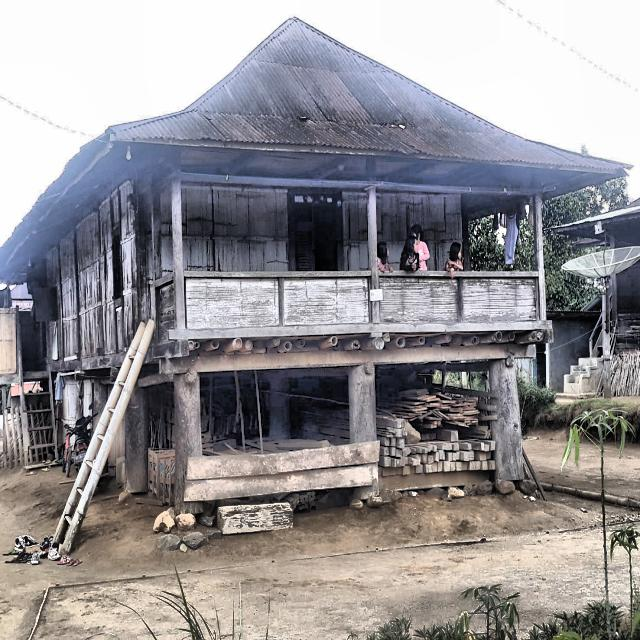column: (173, 371, 204, 514), (489, 357, 523, 480), (124, 387, 149, 493), (348, 363, 377, 443)
door: (288, 192, 342, 270)
ornamen: (184, 277, 280, 329), (284, 278, 369, 325), (379, 276, 459, 323), (463, 277, 537, 323), (159, 282, 175, 345)
roof: (0, 18, 629, 283), (550, 199, 640, 236)
stair: (54, 320, 154, 553), (19, 349, 58, 468), (563, 358, 603, 396)
wall: (44, 175, 149, 360), (181, 185, 288, 271), (376, 194, 462, 270), (342, 192, 368, 270), (159, 191, 172, 274)
window: (112, 234, 122, 298)
